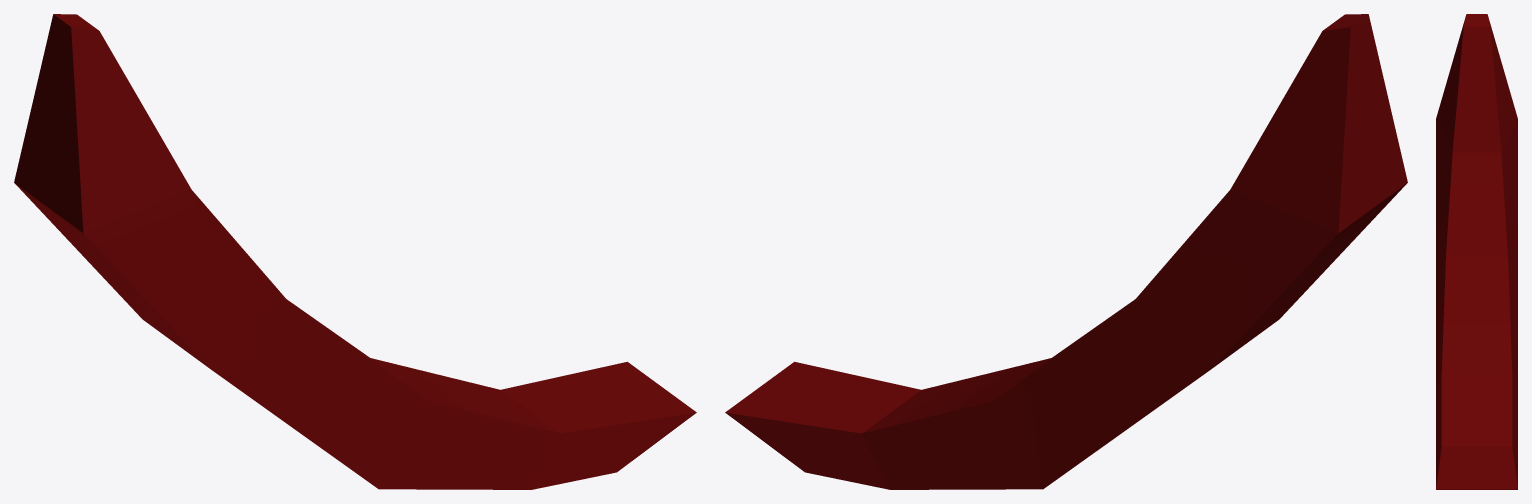
Rendered from object_7_lev1_lev2.glb.
3 renders of one model, left to right at view 1: azimuth 30°, elevation 25°; view 2: azimuth 150°, elevation 25°; view 3: azimuth 270°, elevation 25°, orthographic. The views are drawn at different scales.
Visible parts, largest first — view 1: object_7_lev1_lev2; view 2: object_7_lev1_lev2; view 3: object_7_lev1_lev2.
Boxes of the visible parts, x1=… form: object_7_lev1_lev2: x1=14, y1=14, x2=696, y2=489; object_7_lev1_lev2: x1=725, y1=14, x2=1407, y2=489; object_7_lev1_lev2: x1=1436, y1=14, x2=1517, y2=489.
Bounding box in the file's own units: 2.19 × 1.89 × 0.4288.
